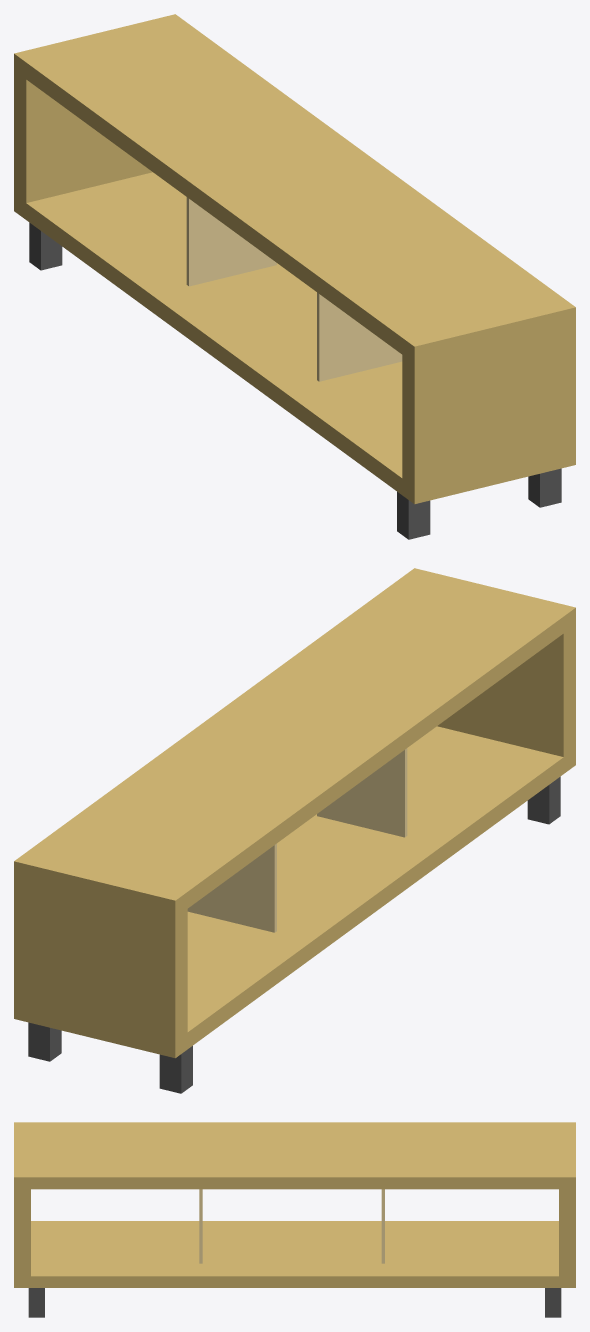
Rendered from TV_Unitesi.fbx.
The picture shows the model from 3 angles, top to bottom: view 1: azimuth 30°, elevation 25°; view 2: azimuth 150°, elevation 25°; view 3: azimuth 270°, elevation 25°; orthographic projection. The views are drawn at different scales.
Visible parts, largest first — view 1: Cube; view 2: Cube; view 3: Cube.
Boxes of the visible parts, x1,y1,x2,y2 form: Cube: (14,14,575,539); Cube: (14,568,575,1093); Cube: (14,1122,575,1317).
Bounding box in the file's own units: 162 × 194 × 697.
